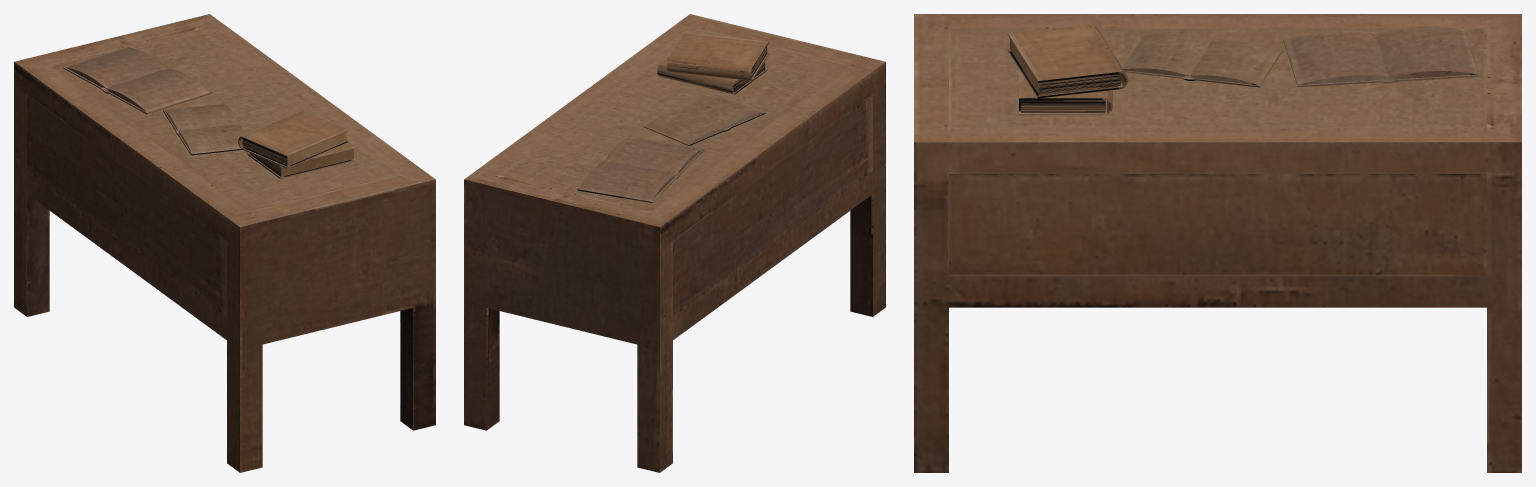
3 views of the same model, side by side, from view 1: azimuth 30°, elevation 25°; view 2: azimuth 150°, elevation 25°; view 3: azimuth 270°, elevation 25° (orthographic). The views are drawn at different scales.
Visible parts, largest first — view 1: Node; view 2: Node; view 3: Node.
Part boxes in pixels (bbox=[...]): Node: bbox=[14, 14, 435, 472]; Node: bbox=[464, 14, 885, 472]; Node: bbox=[914, 14, 1521, 472].
Size of the model in its own units: 0.35 by 0.4638 by 0.7.
Materials: 1 (1 with a texture image).
